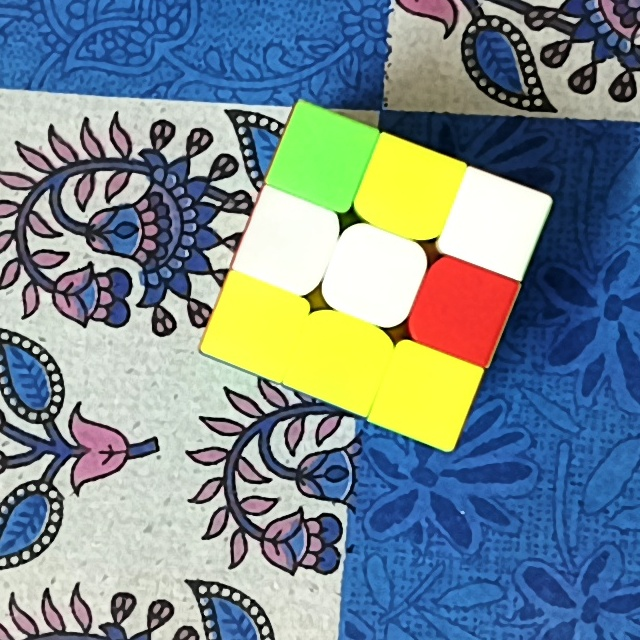tile: (337, 238, 404, 309), (435, 276, 494, 347), (230, 291, 289, 354), (462, 194, 527, 251), (383, 155, 439, 217), (318, 326, 372, 389), (402, 364, 460, 422), (297, 130, 354, 186), (255, 215, 309, 274)
